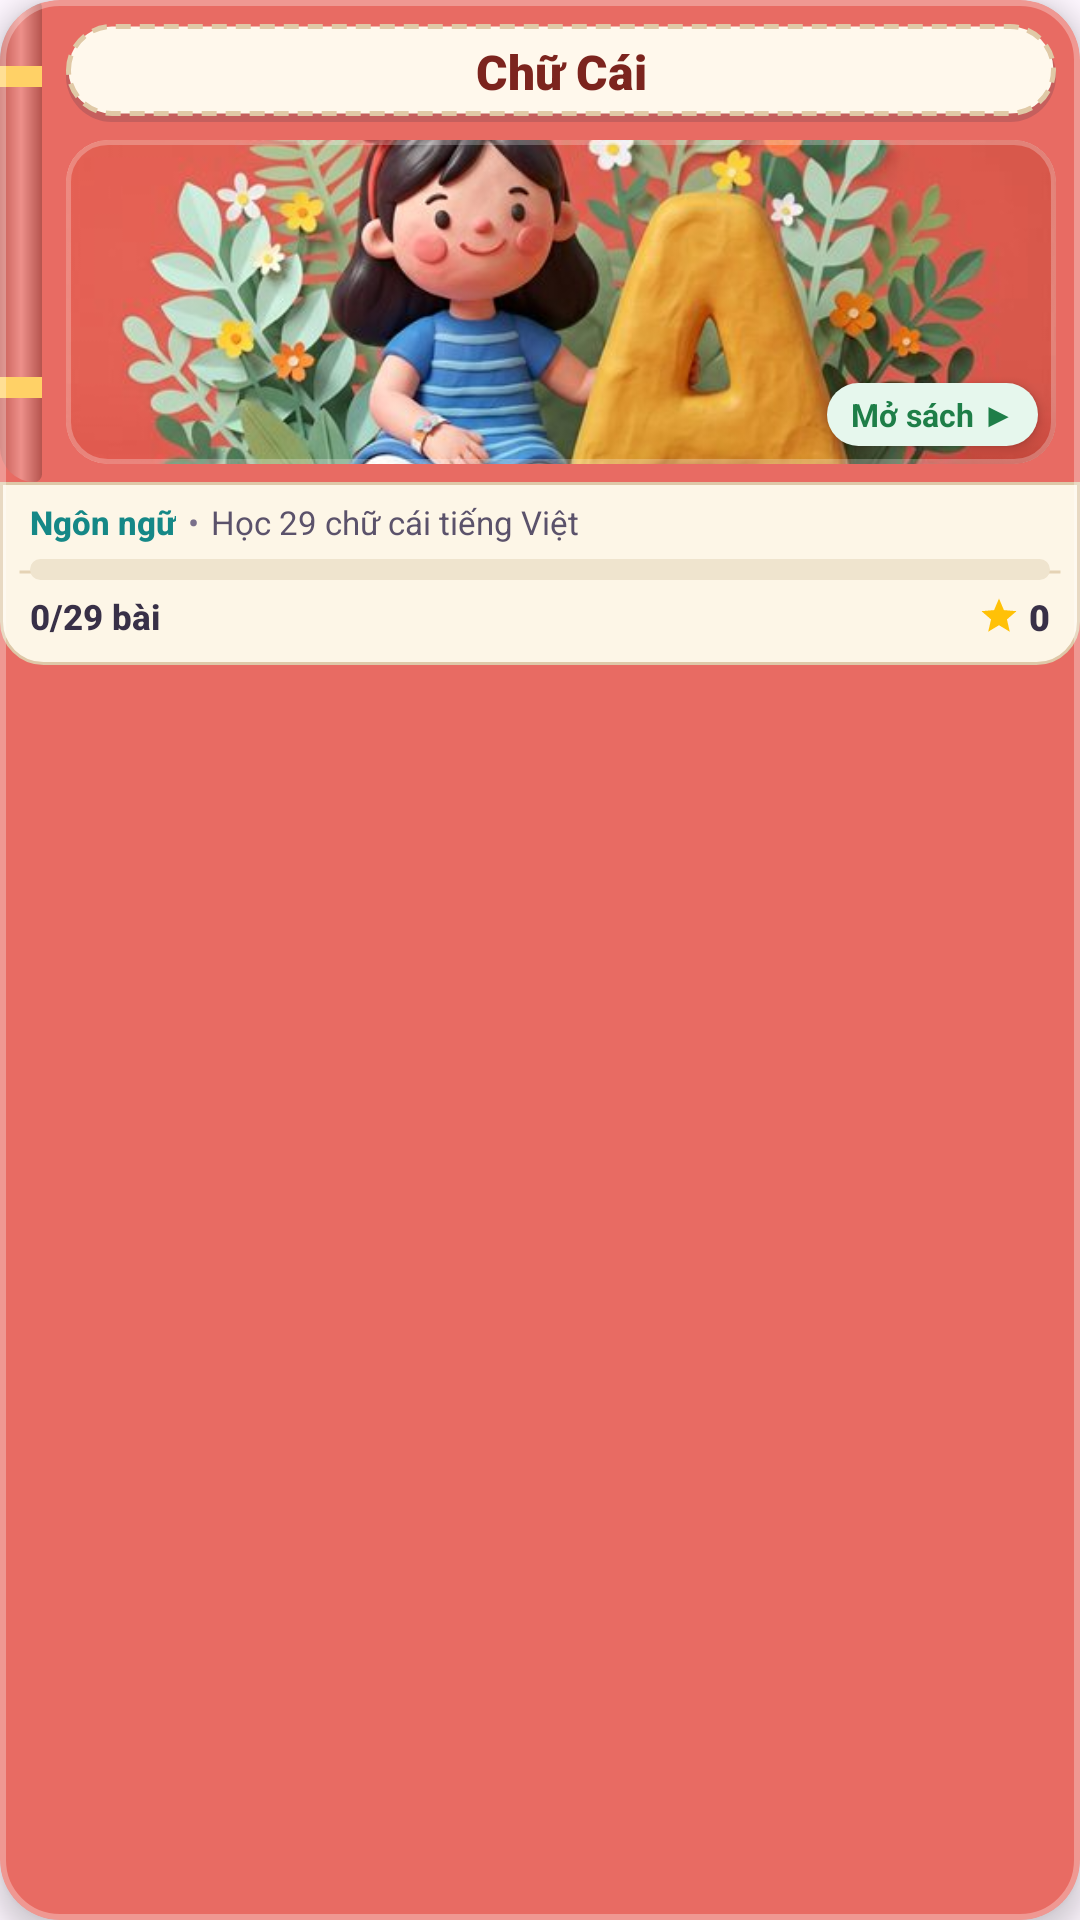

Locate icon controls on the screen. Image size 1080 × 1920, boxes as (left=x1, top=y1, right=x2, bottom=y2).
Biểu tượng ngôi sao thành tích: (left=982, top=599, right=1016, bottom=632)
